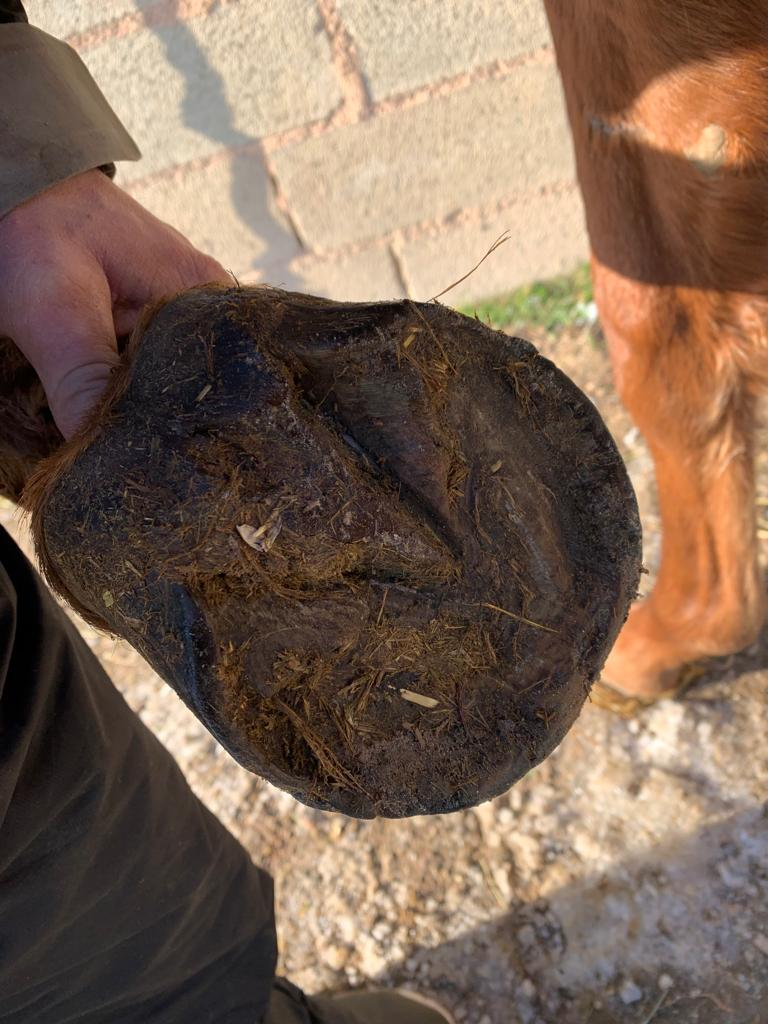horsesole: (177, 302, 644, 822)
